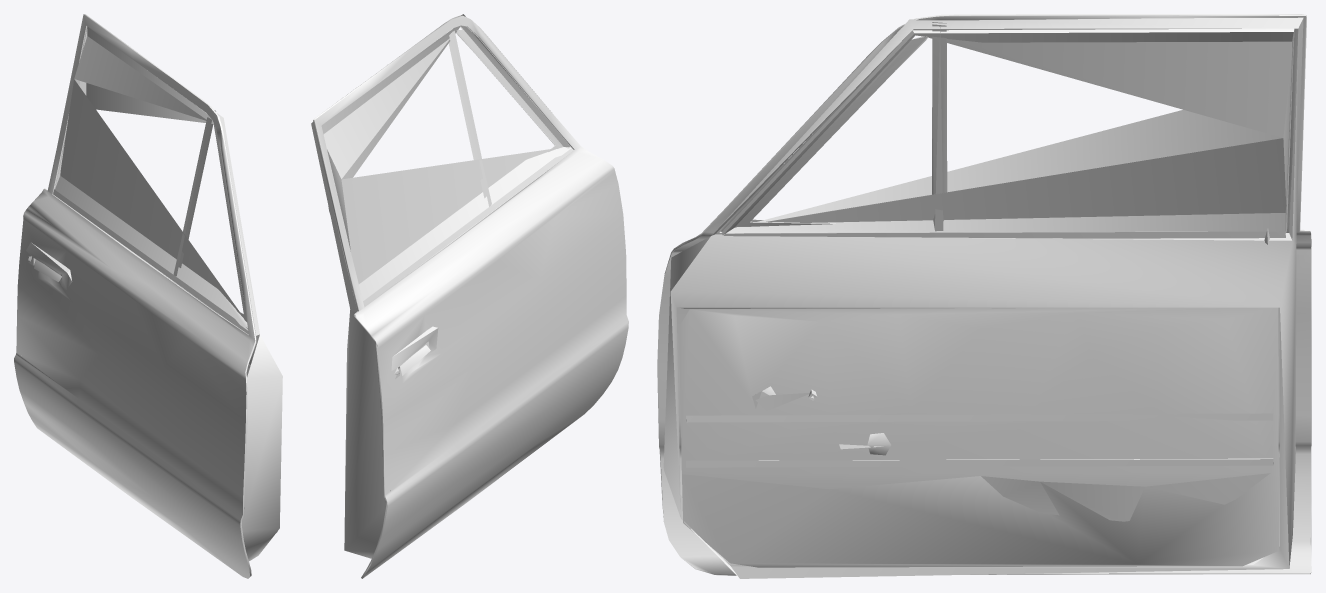
The picture shows the model from 3 angles, left to right: view 1: azimuth 30°, elevation 25°; view 2: azimuth 150°, elevation 25°; view 3: azimuth 270°, elevation 25°; orthographic projection. The views are drawn at different scales.
Size of the model in its own units: 0.1819 by 0.9499 by 0.951.
Materials: 1 (1 with a texture image).
